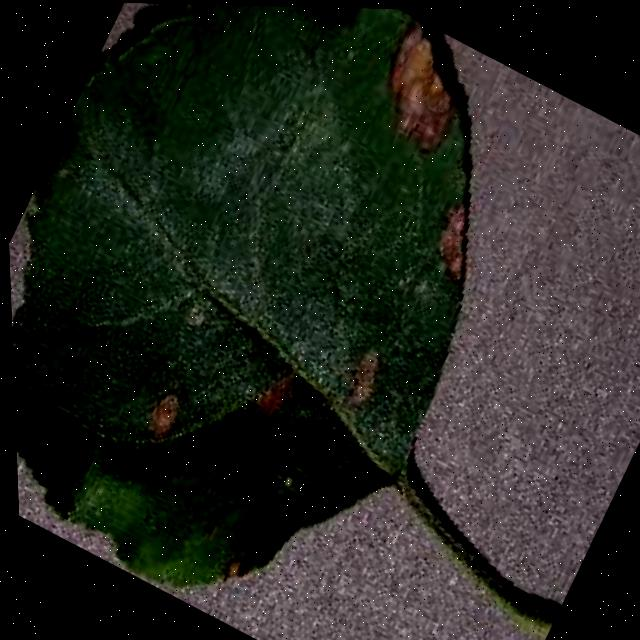black_rot: (350, 12, 500, 169), (413, 192, 516, 298), (230, 340, 314, 434), (123, 372, 199, 459), (329, 339, 399, 422)
